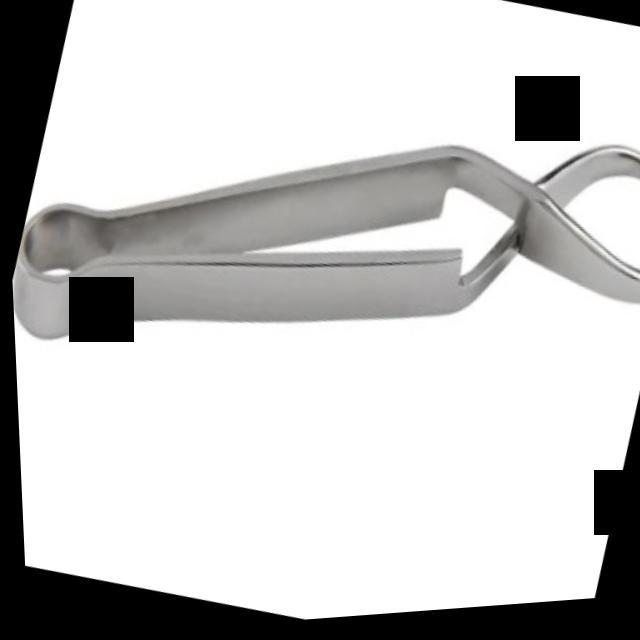Doyen Cross Action Towel Clamp: (1, 0, 640, 506)
